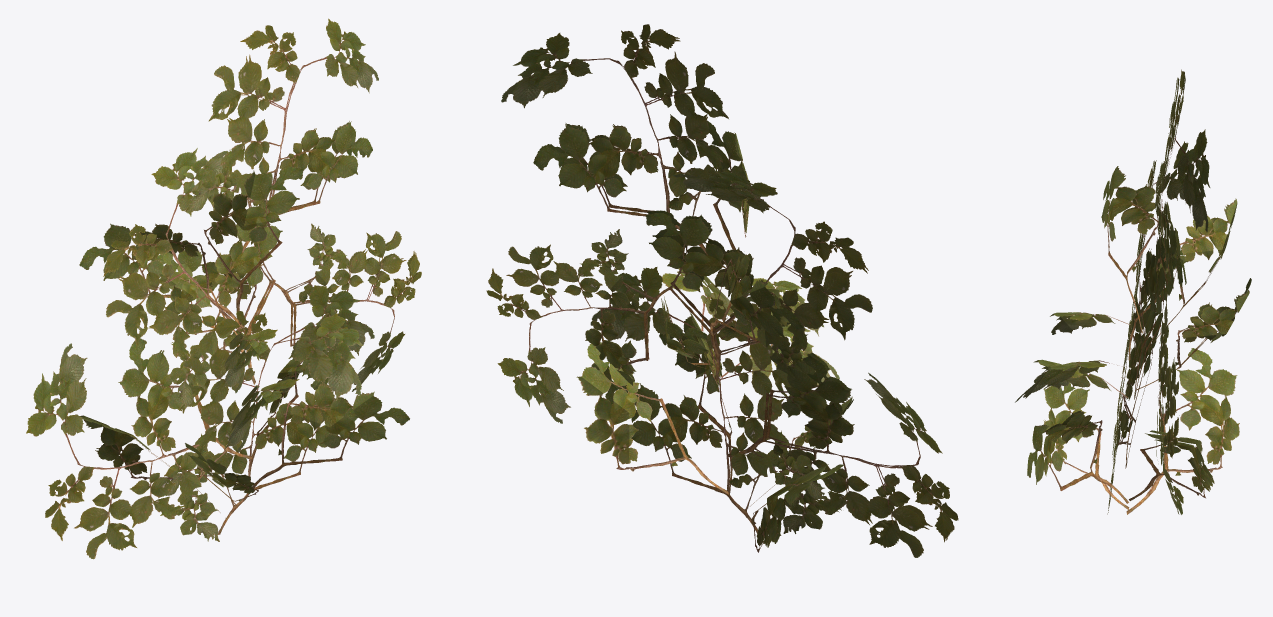
The model's file is UnderGrowthJ.fbx.
3 views of the same model, side by side, from view 1: azimuth 30°, elevation 25°; view 2: azimuth 150°, elevation 25°; view 3: azimuth 270°, elevation 25° (orthographic). The views are drawn at different scales.
Parts seen in each view (by area): view 1: UnderGrowthJtwoSided, UnderGrowthJ; view 2: UnderGrowthJ, UnderGrowthJtwoSided; view 3: UnderGrowthJ, UnderGrowthJtwoSided.
Part boxes in pixels (x1,y1,x2,y2): UnderGrowthJtwoSided: [26, 21, 421, 558]; UnderGrowthJ: [26, 18, 420, 559]; UnderGrowthJ: [487, 25, 957, 557]; UnderGrowthJtwoSided: [486, 24, 958, 555]; UnderGrowthJ: [1021, 71, 1251, 514]; UnderGrowthJtwoSided: [1015, 69, 1251, 514].
Bounding box in the file's own units: 167 × 190 × 85.05.
Materials: 1 (1 with a texture image).
